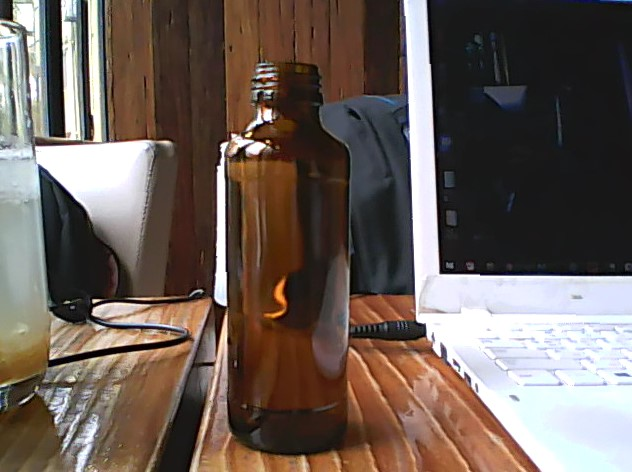Glass: (219, 58, 353, 460)
